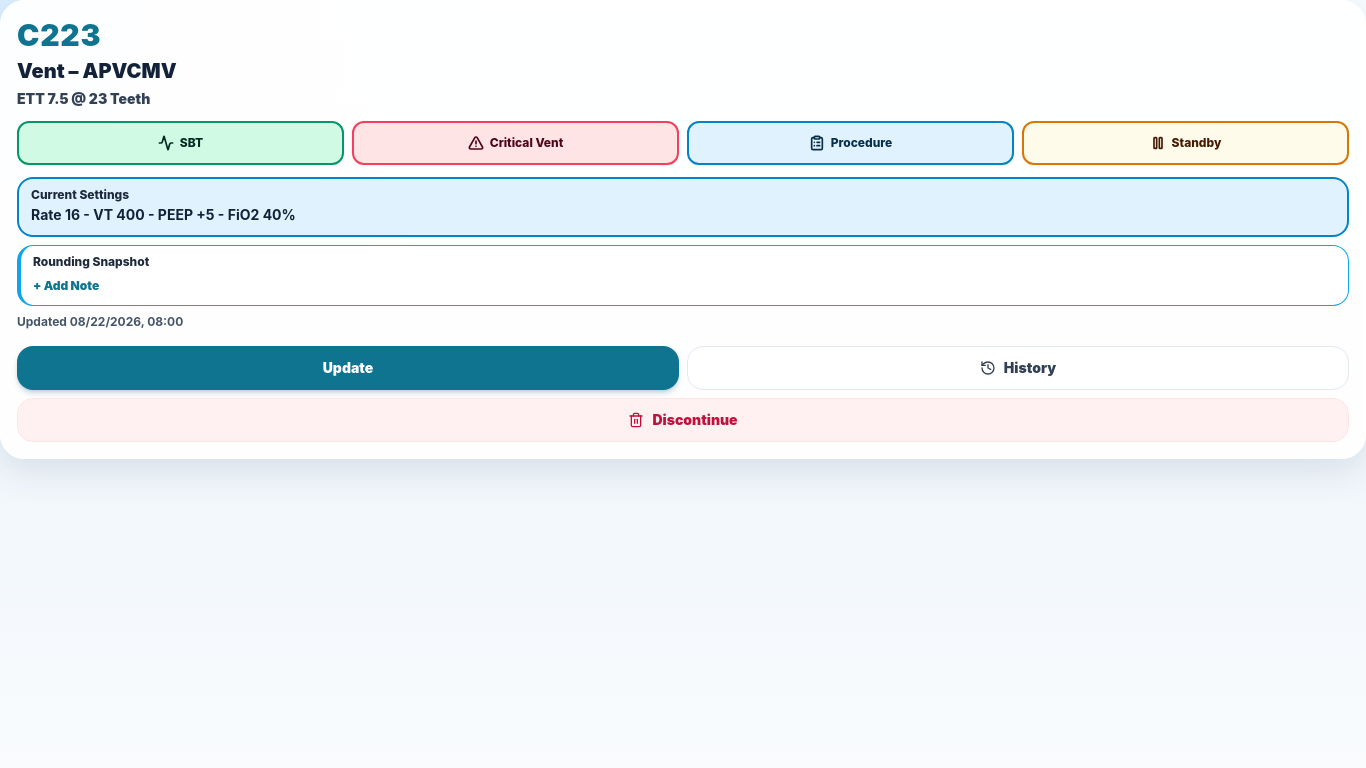
IcuPatientCard Vent actions › expands an empty editor and cancels without saving
The width and height of the screenshot is (1366, 768).
Click the button "+ Add Note".
click(66, 286)  # box [33,278,99,294]
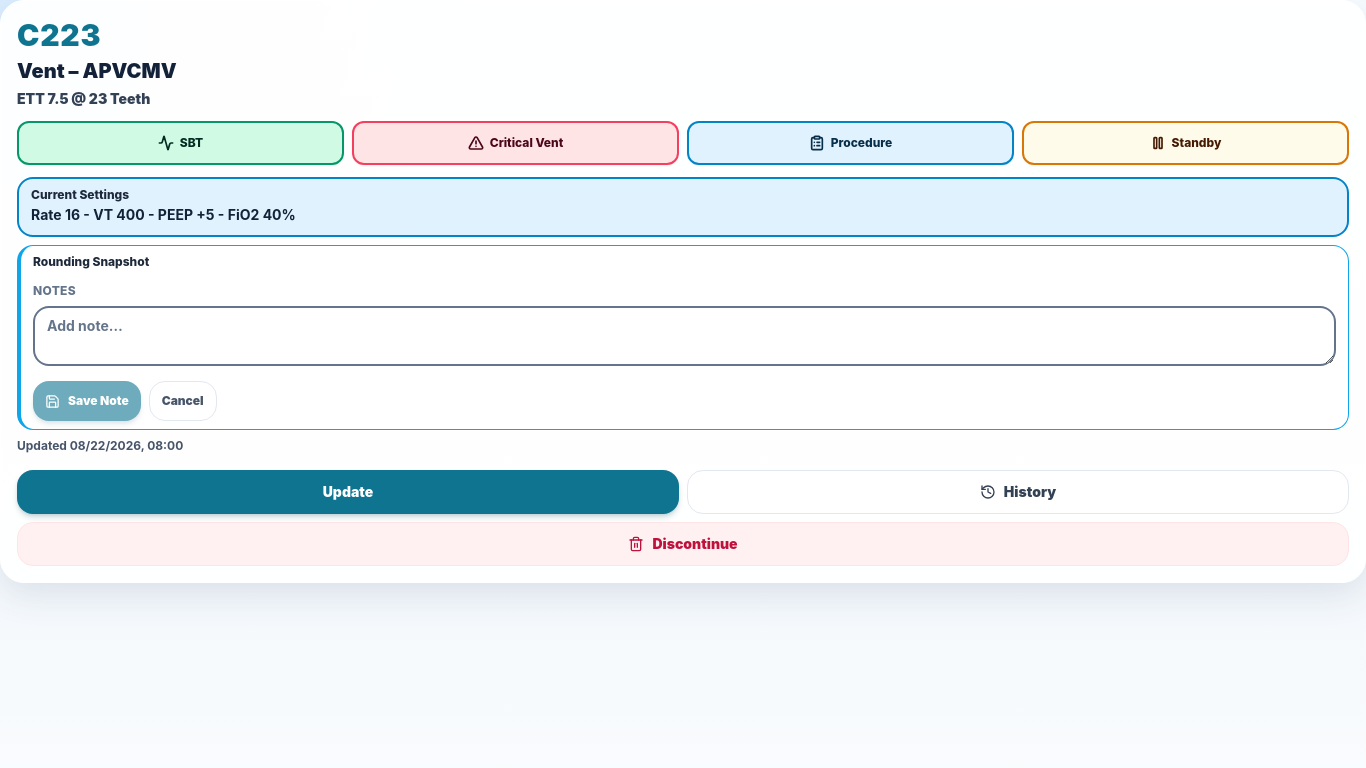
Now the button "Save Note" is disabled, box [33,381,141,421]
Now the button "Cancel" is shown, box [149,381,217,421]
Type "Unsaved note" into the text box labelled "Notes".
click(684, 336); type("Unsaved note")  # box [33,306,1336,366]
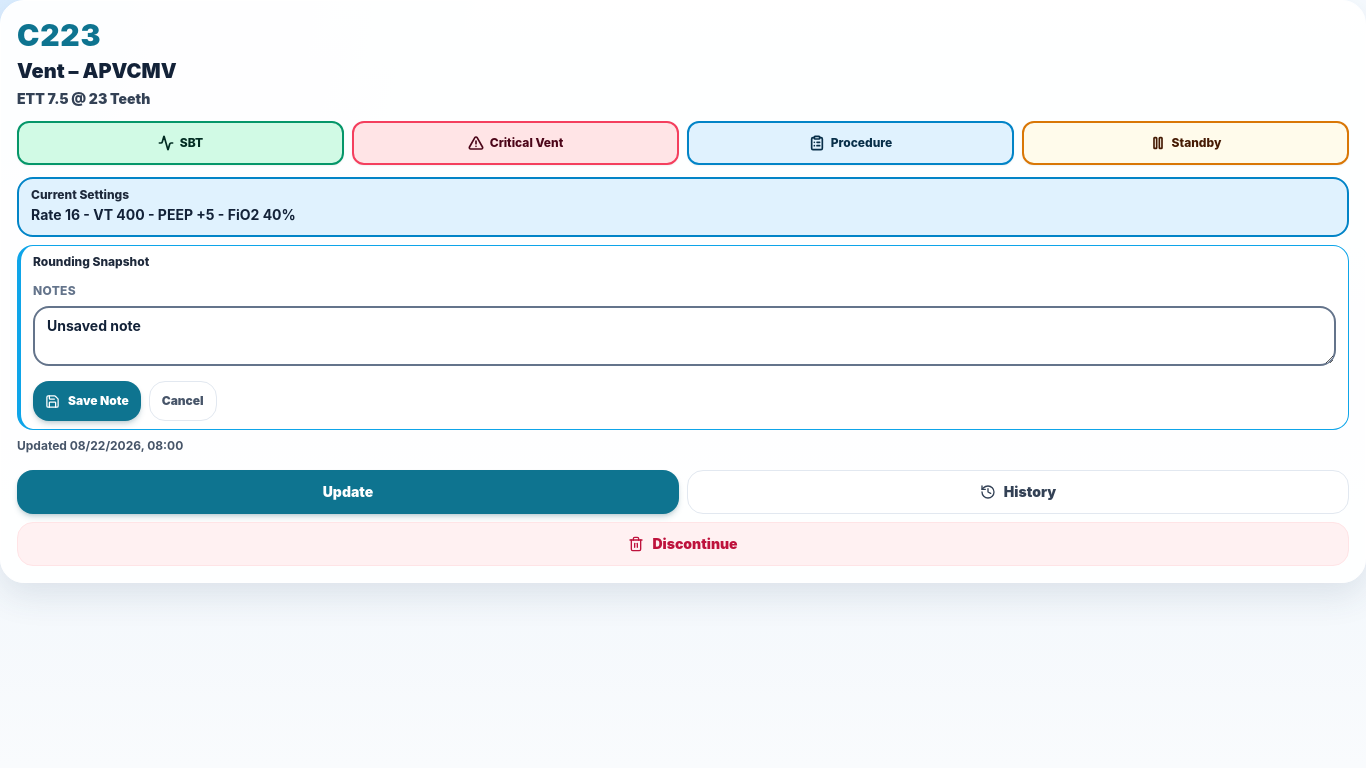
Click the button "Cancel".
click(183, 401)  # box [149,381,217,421]
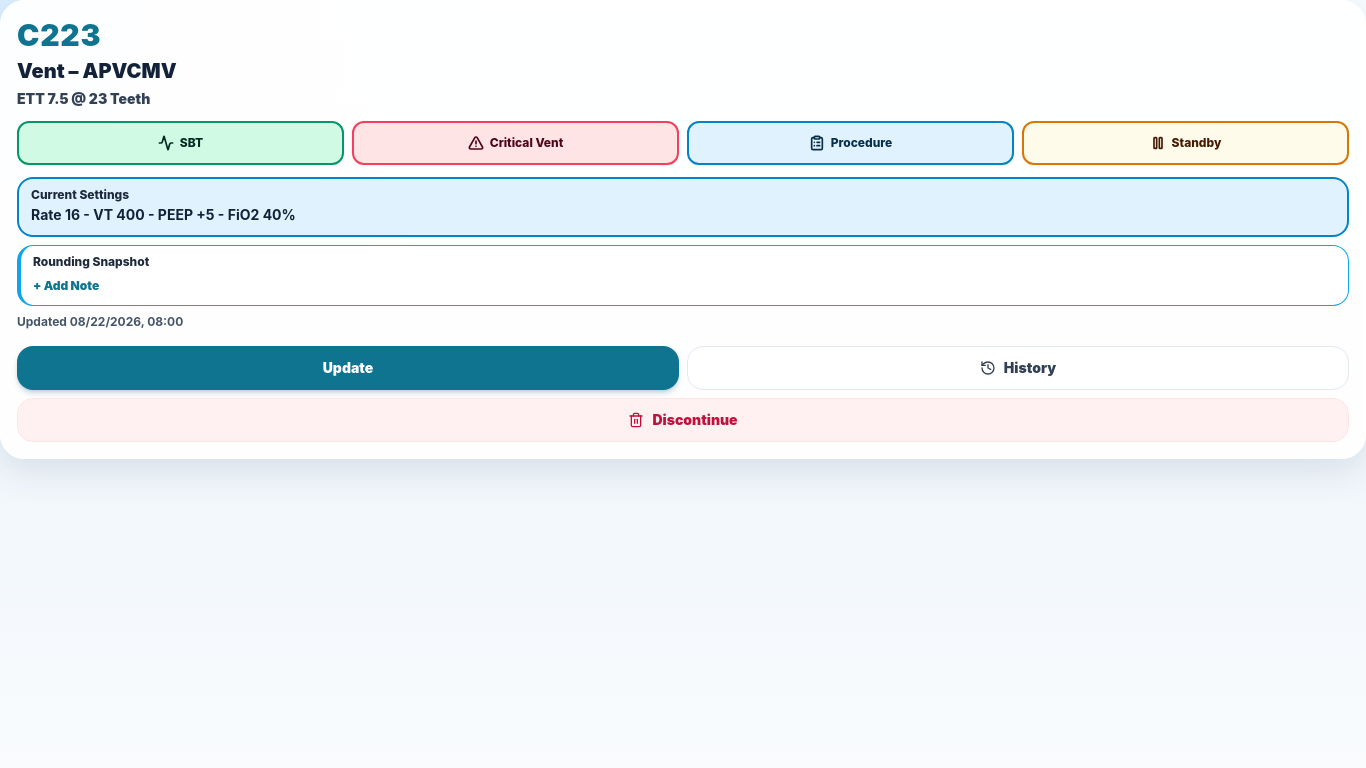
Now the text labelled "Notes" is gone
Now the button "+ Add Note" is shown, box [33,278,99,294]
